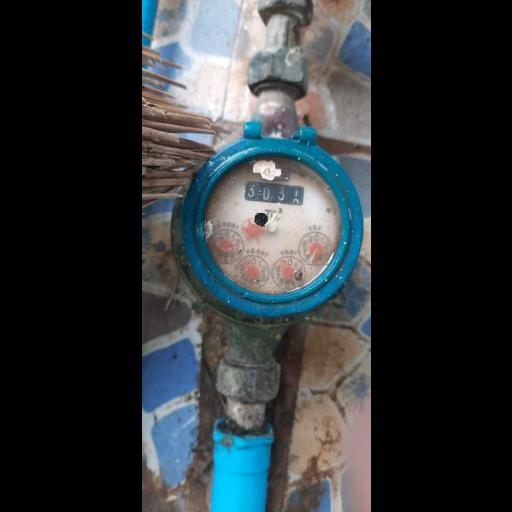0: (257, 182, 274, 204)
1: (286, 186, 302, 205)
3: (271, 184, 287, 204), (244, 181, 259, 201)
border_water_meter_number: (243, 181, 304, 206)
